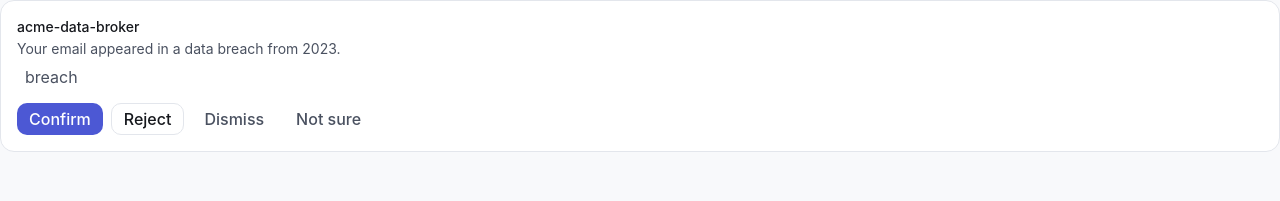
Test: CandidateCard — post-action transitions › FAILURE: failed action does NOT transition — card stays pending with error
Step 1. Click the button "Confirm" → coordinates (60, 119), box top-left (17, 103), bottom-right (103, 135)
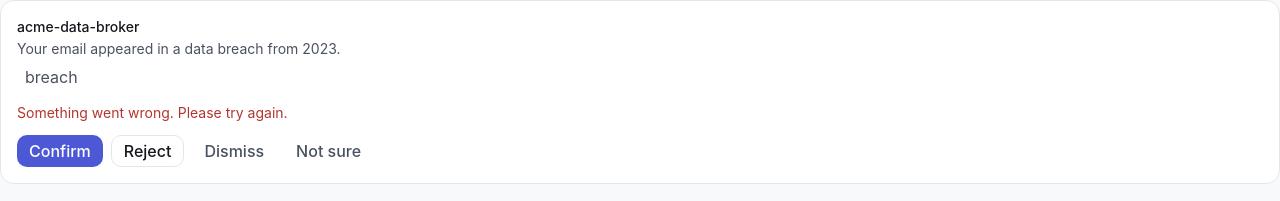
Check: the button "Confirm" is shown, box top-left (17, 135), bottom-right (103, 167)
Check: the message shows "Something went wrong", box top-left (17, 104), bottom-right (288, 121)
